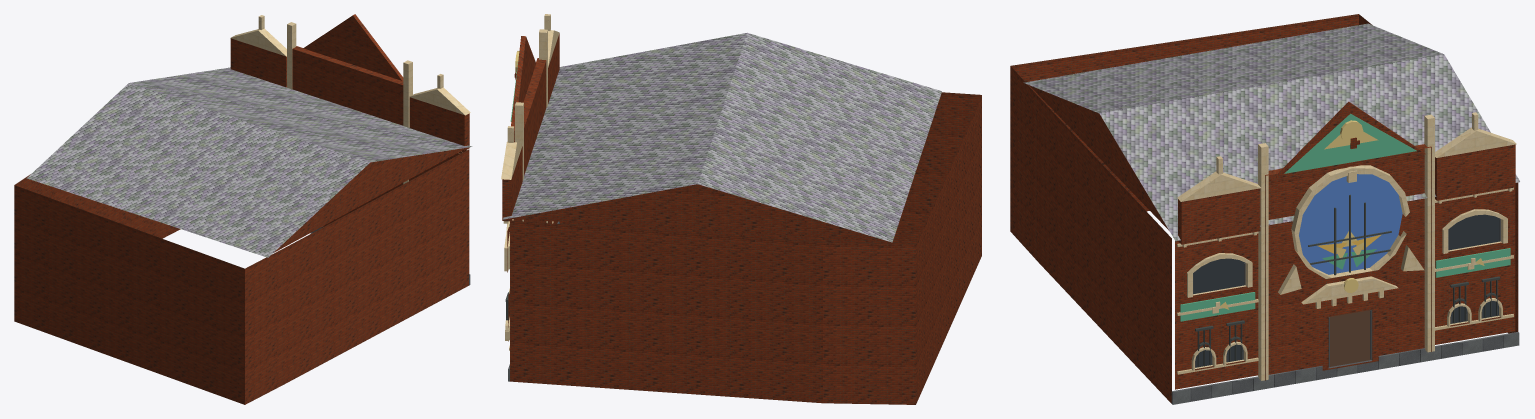
The picture shows the model from 3 angles, left to right: view 1: azimuth 30°, elevation 25°; view 2: azimuth 150°, elevation 25°; view 3: azimuth 270°, elevation 25°; orthographic projection. The views are drawn at different scales.
Parts seen in each view (by area): view 1: bldg_503713425_landmark; view 2: bldg_503713425_landmark; view 3: bldg_503713425_landmark.
Boxes of the visible parts, x1,y1,x2,y2 form: bldg_503713425_landmark: (14,14,472,404); bldg_503713425_landmark: (501,14,981,404); bldg_503713425_landmark: (1010,14,1519,404).
Bounding box in the file's own units: 19.13 × 10.85 × 18.12.
Materials: 13 (5 with a texture image).
